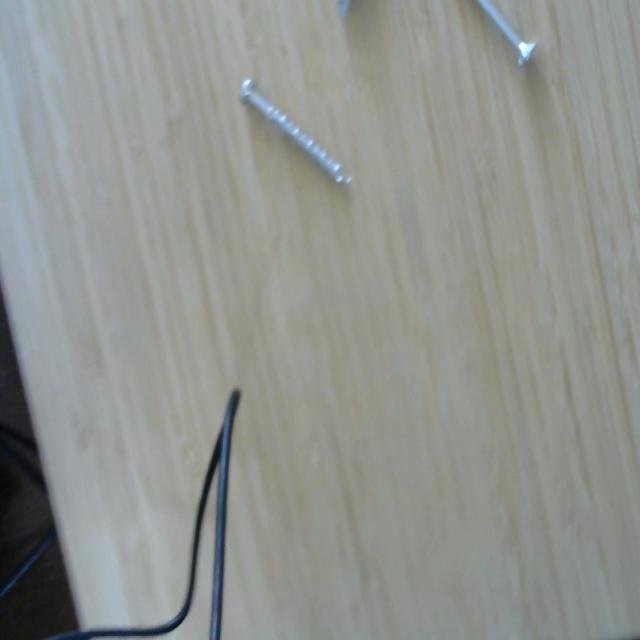Long screw: (468, 0, 548, 79)
Medium screw: (235, 71, 357, 196)
